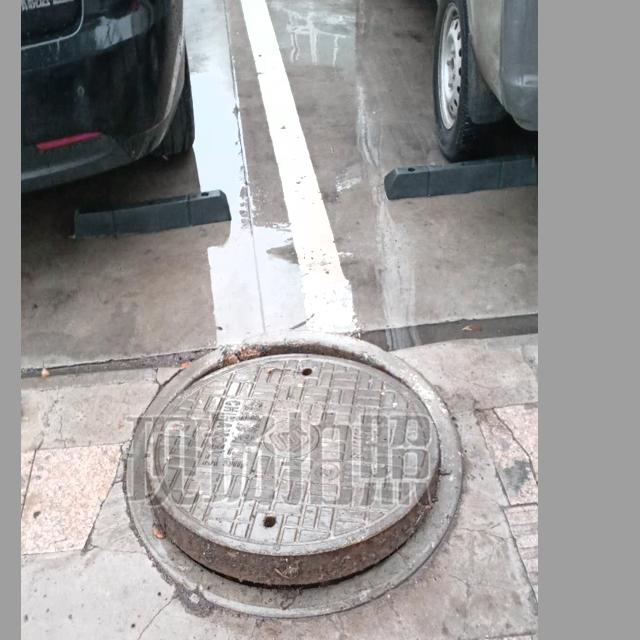uncovered: (122, 332, 464, 614)
